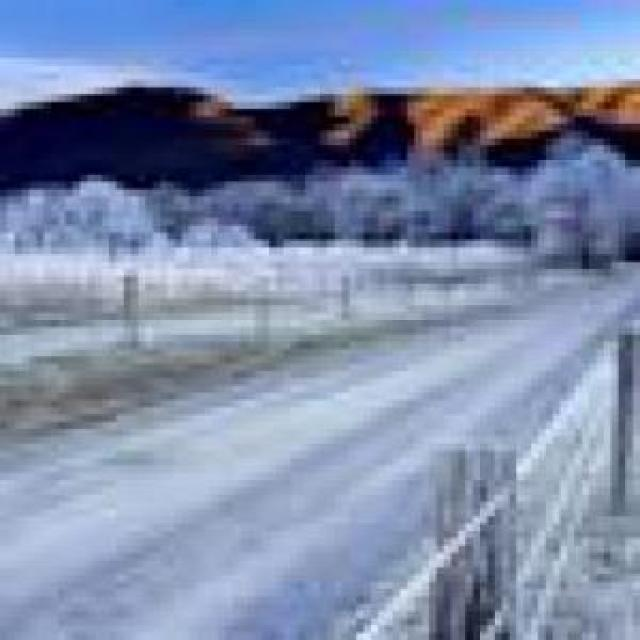ice-road: (5, 270, 620, 638)
